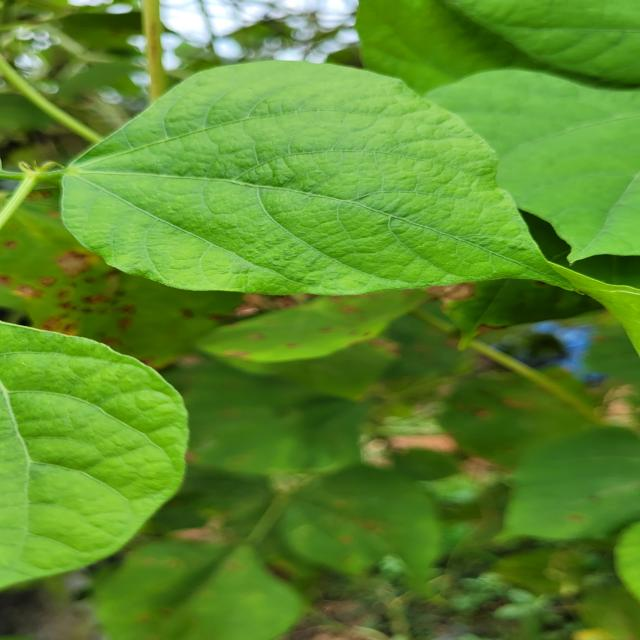Dolicos bean_healthy: (57, 59, 628, 298), (0, 300, 188, 610), (418, 53, 640, 256), (274, 469, 445, 581)
